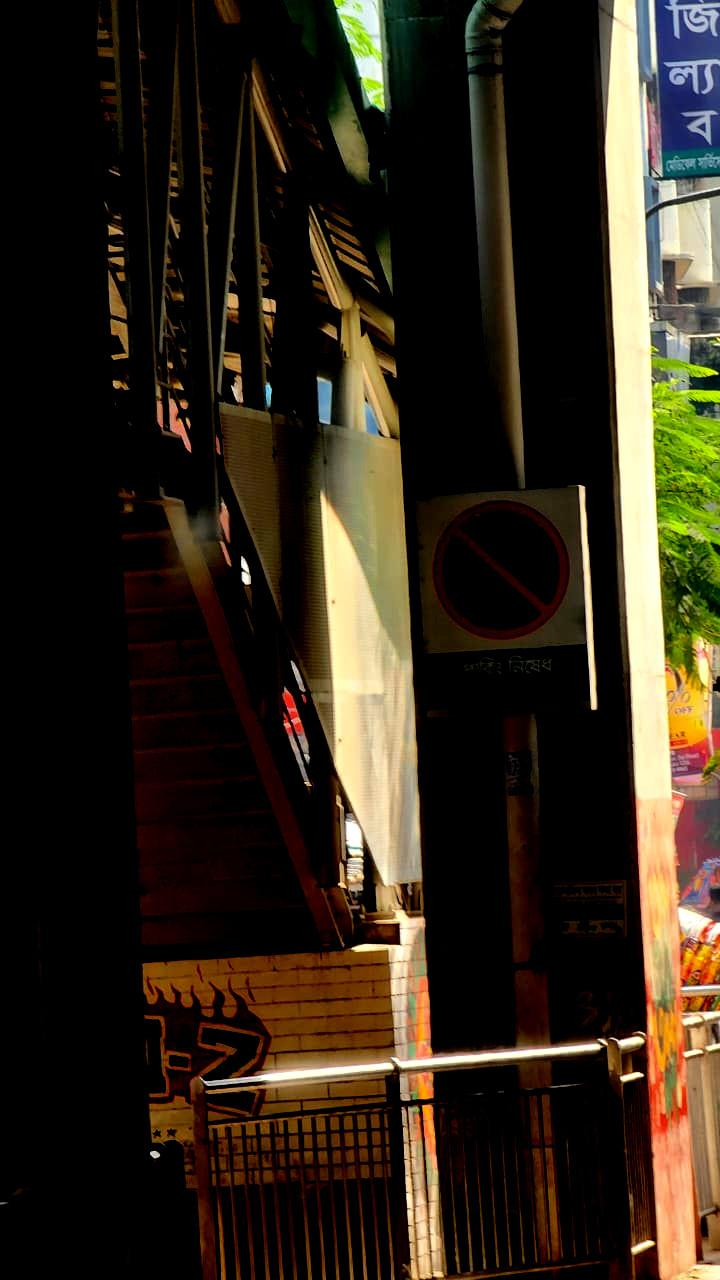No Parking: (418, 485, 595, 656)
